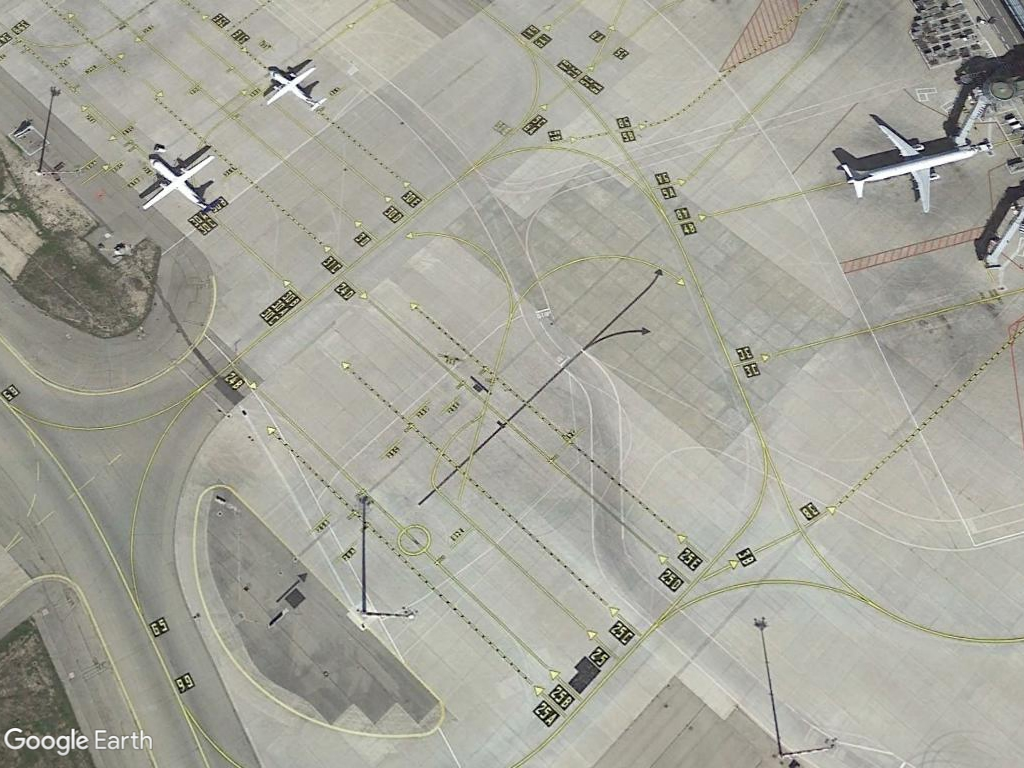airliner: (835, 114, 980, 217)
propeller: (137, 154, 225, 219), (261, 64, 330, 113)
